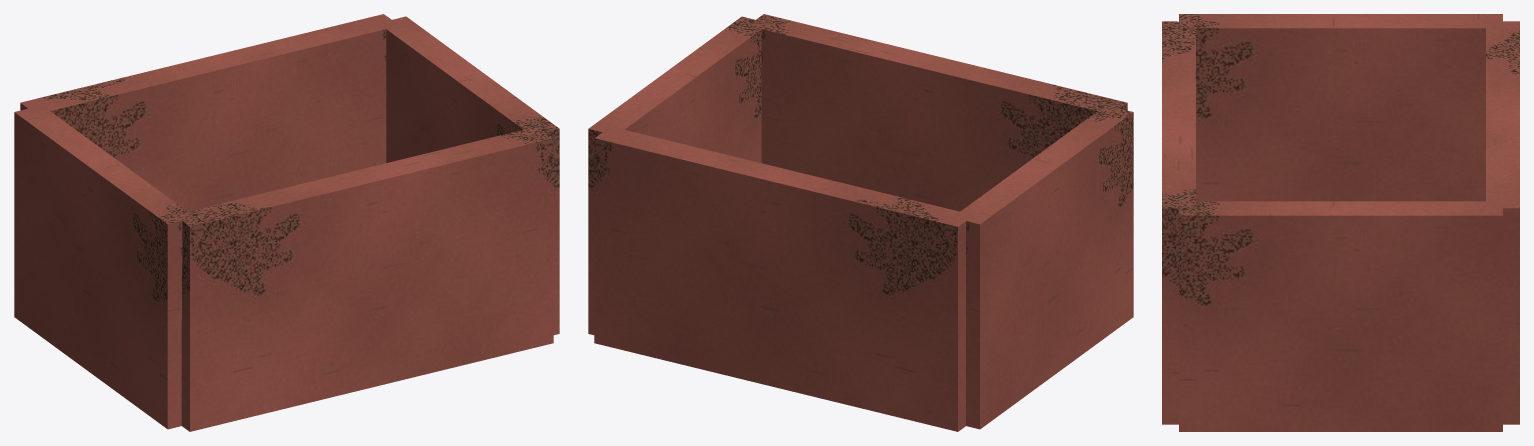
File: crate2_v3.glb
The picture shows the model from 3 angles, left to right: view 1: azimuth 30°, elevation 25°; view 2: azimuth 150°, elevation 25°; view 3: azimuth 270°, elevation 25°; orthographic projection. The views are drawn at different scales.
Visible parts, largest first — view 1: Variant_crate2_3; view 2: Variant_crate2_3; view 3: Variant_crate2_3.
Part boxes in pixels (x1,y1,x2,y2): Variant_crate2_3: [14, 14, 559, 431]; Variant_crate2_3: [588, 14, 1133, 431]; Variant_crate2_3: [1162, 14, 1519, 431].
Bounding box in the file's own units: 0.56 × 0.28 × 0.42.
Materials: 1 (1 with a texture image).
